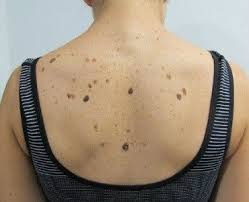mole: (122, 84, 138, 100), (118, 140, 132, 155), (78, 93, 91, 105), (172, 90, 183, 103), (46, 57, 57, 65)
